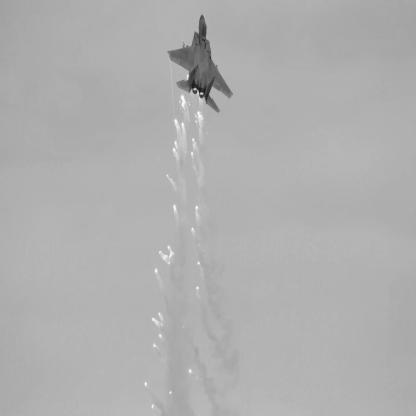F15: (168, 15, 235, 114)
